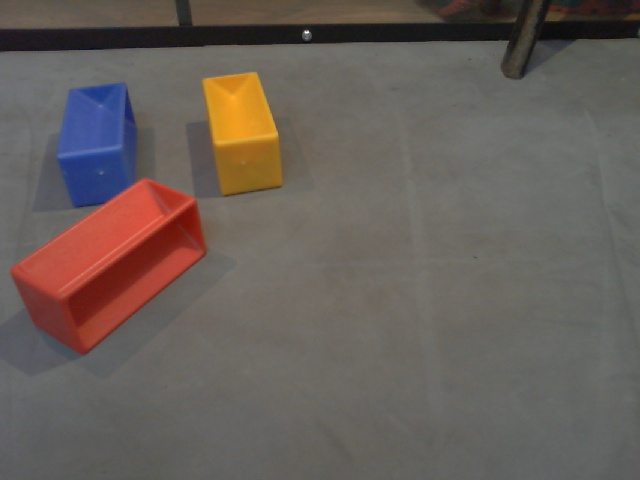BlueSample: (56, 81, 139, 204)
RedSample: (8, 177, 209, 358)
YellowSample: (199, 68, 291, 199)
